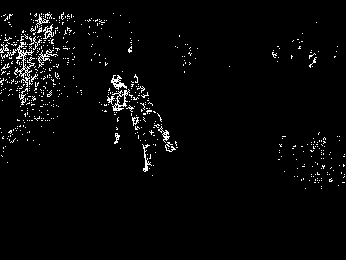person: (138, 99, 177, 173), (124, 74, 147, 138), (107, 75, 125, 145)
